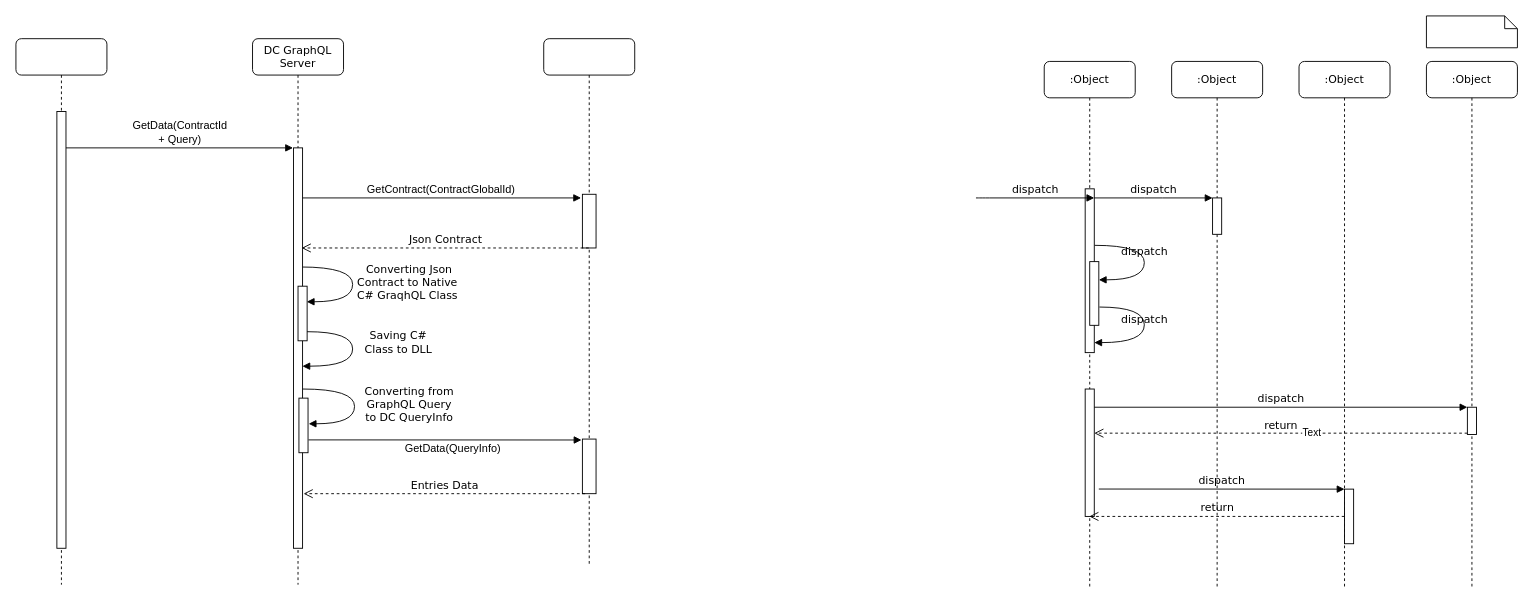
The diagram is 1533 pixels wide and 605 high, and some of its shapes have lost their labels. Each missing label, with the box of its shape:
DC Client: (543, 38, 635, 566)
GraphQL API: (15, 38, 107, 585)
Note: (1426, 15, 1517, 48)
